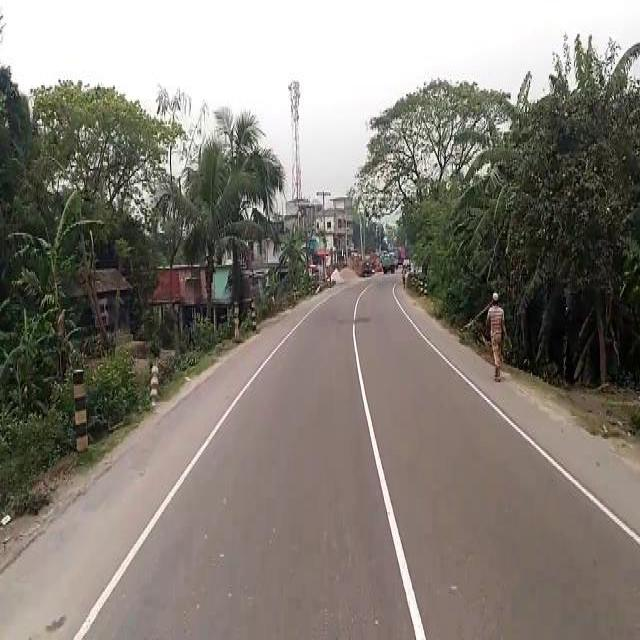vehicle: (381, 253, 395, 272), (403, 259, 411, 269)
